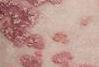plaque psoriasis: (0, 0, 45, 51), (0, 0, 73, 8), (7, 52, 43, 67), (50, 49, 75, 67), (51, 30, 68, 44), (72, 63, 99, 67), (98, 0, 99, 10)
